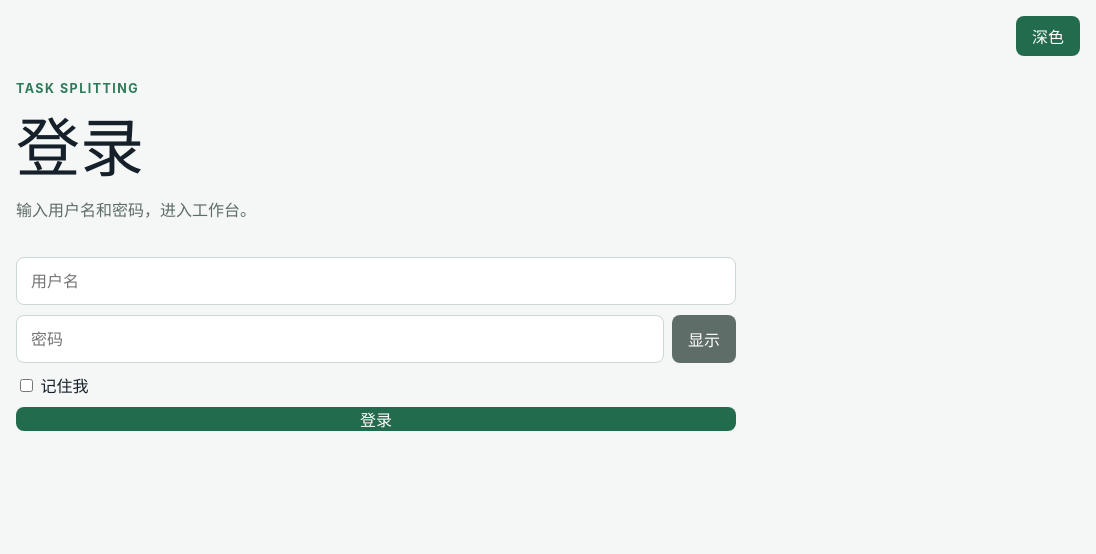
App › switches from the login form to the workboard after a successful login
The image size is (1096, 554).
In the field with placeholder "用户名": (376, 281) [16,257,736,305], type "alice"
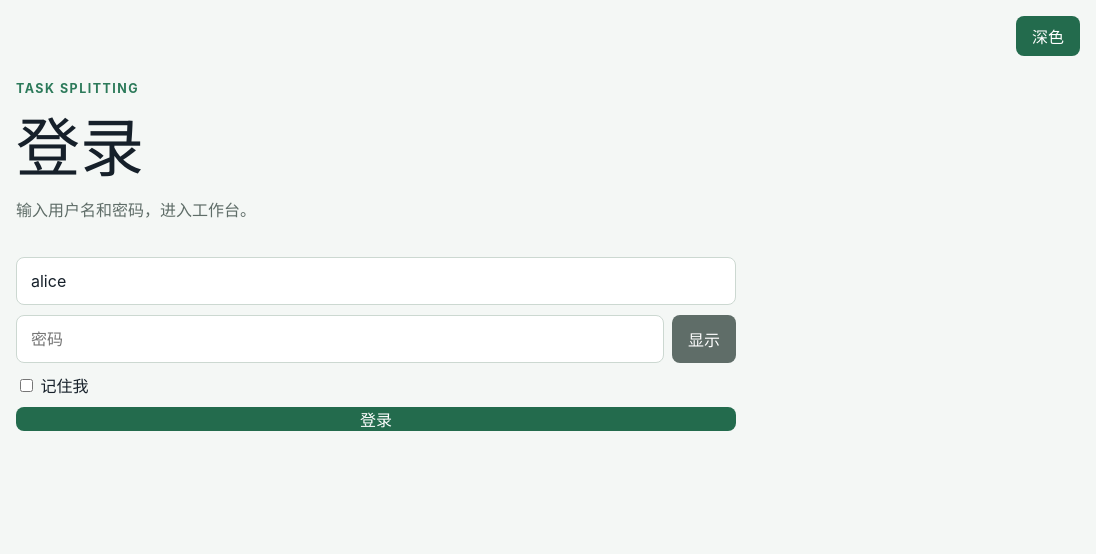
In the password field with placeholder "密码": (340, 339) [16,315,664,363], type "secret"
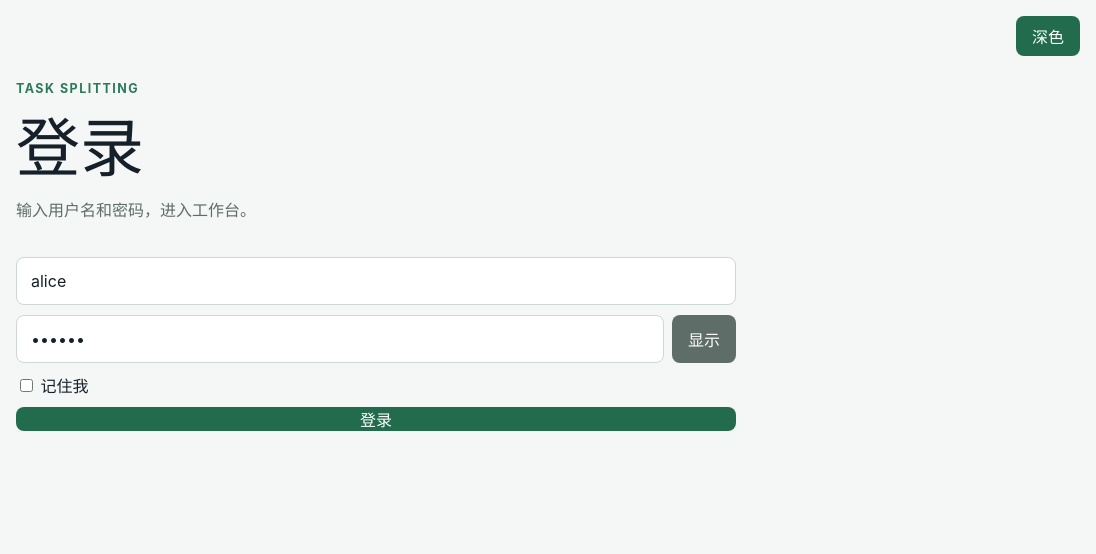
Submit the form from the button "登录", box [16,407,736,431]
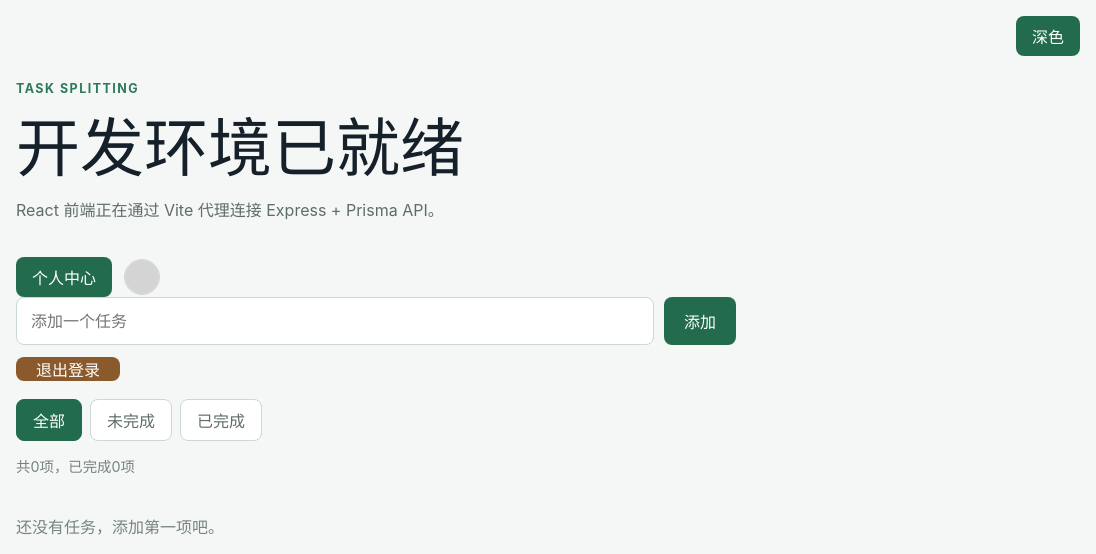
Check: the element with class "todo-list" is shown, box [16,517,224,537]
